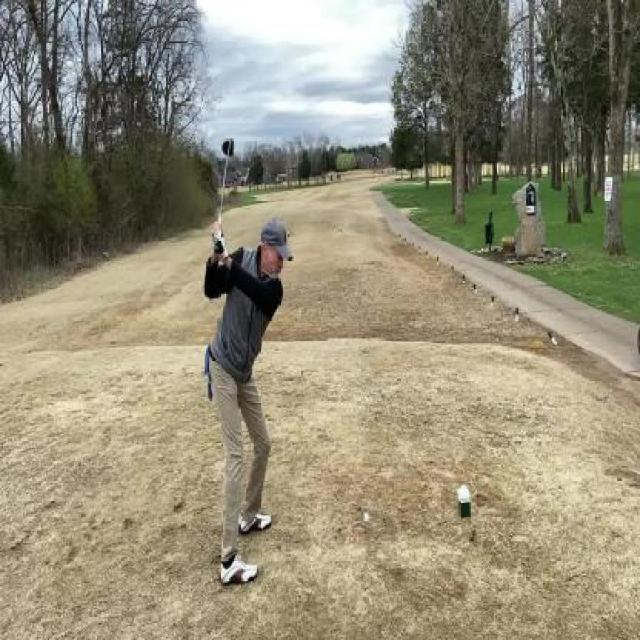club head: (220, 136, 234, 158)
